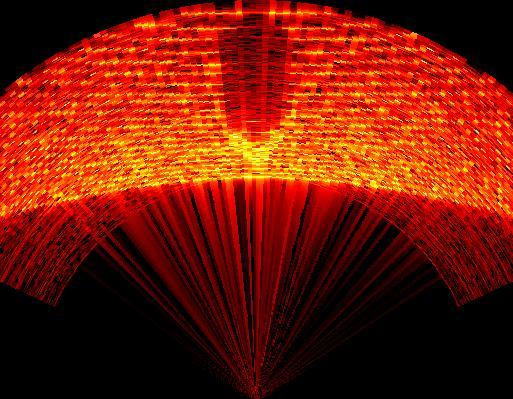box_crate: (216, 8, 289, 132)
